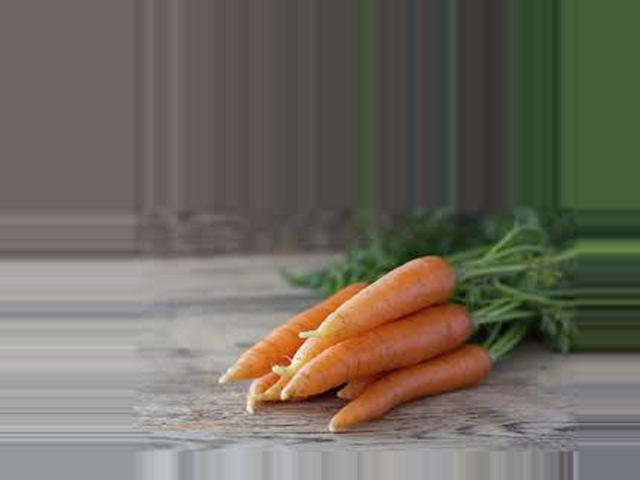carrot: (307, 338, 494, 432)
